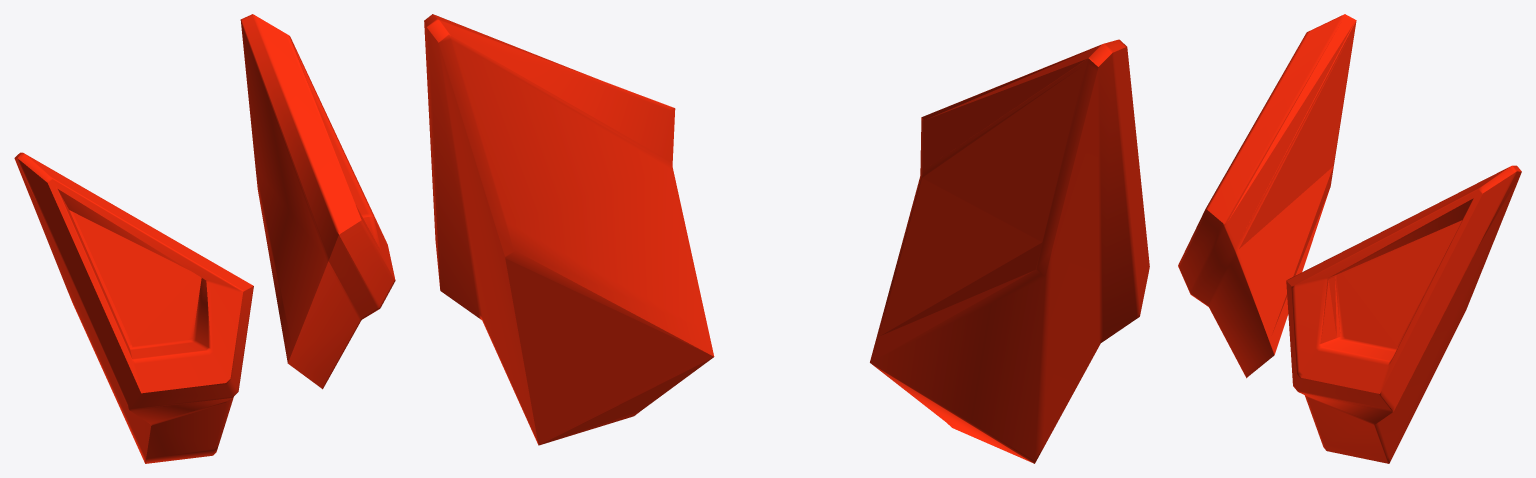
3 views of the same model, side by side, from view 1: azimuth 30°, elevation 25°; view 2: azimuth 150°, elevation 25°; view 3: azimuth 270°, elevation 25° (orthographic). The views are drawn at different scales.
Parts seen in each view (by area): view 1: ears_008; view 2: ears_008; view 3: ears_008.
Part boxes in pixels (x1=…): ears_008: x1=14, y1=14, x2=395, y2=463; ears_008: x1=424, y1=14, x2=1149, y2=463; ears_008: x1=1178, y1=14, x2=1521, y2=463.
Size of the model in its own units: 93.26 by 72.47 by 69.21.
